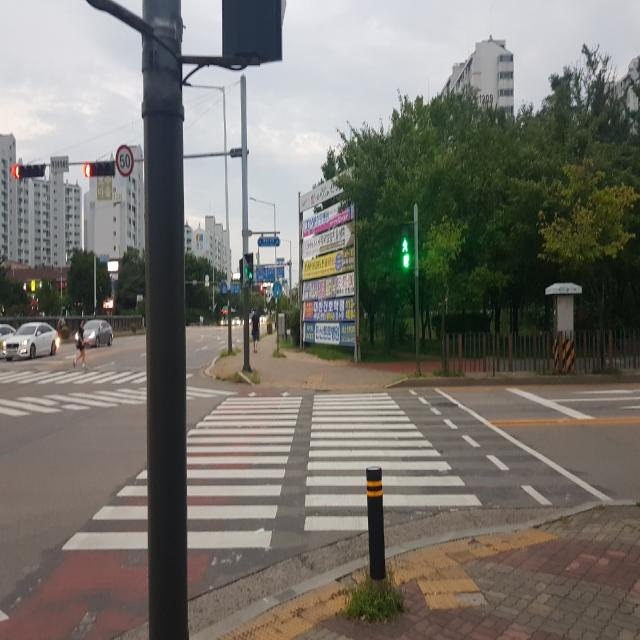초록불: (401, 223, 412, 271)
횡단보도: (61, 392, 484, 554), (0, 364, 146, 414)
